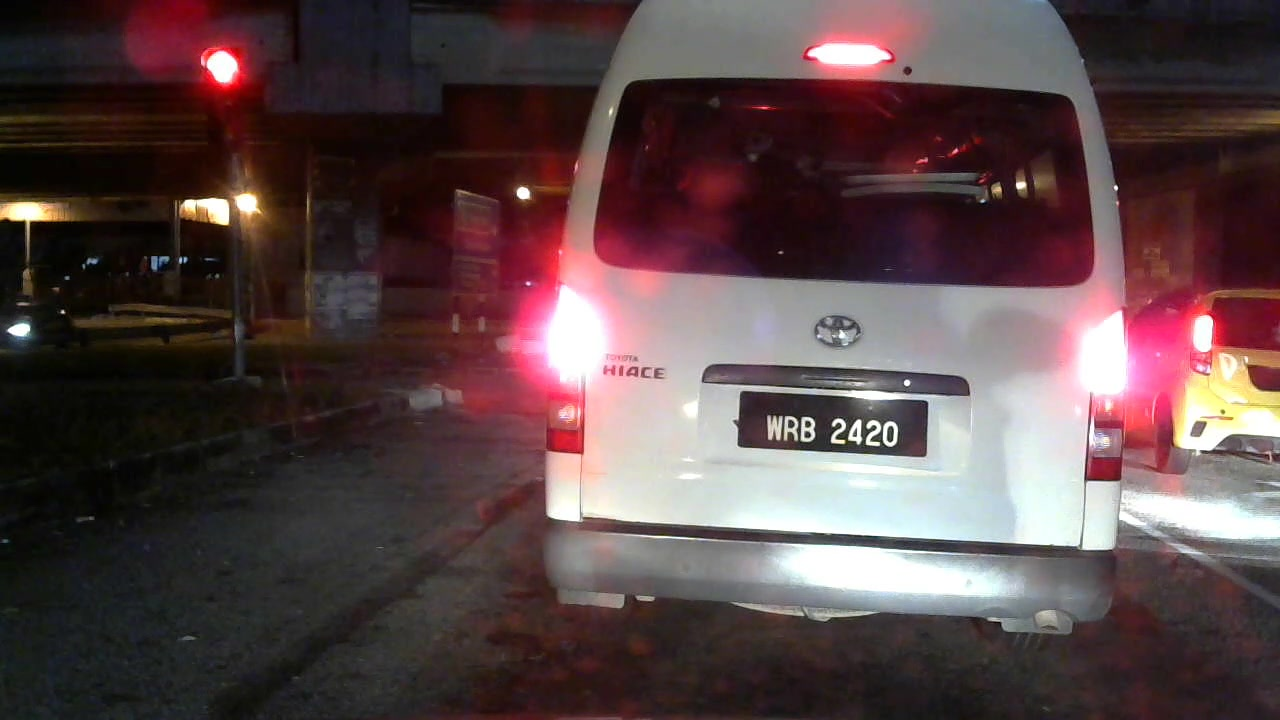Car: (1126, 274, 1280, 482), (2, 294, 73, 366)
